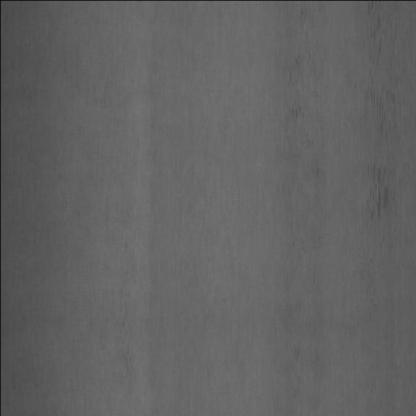silk_spot: (284, 61, 327, 161), (369, 44, 395, 204)
